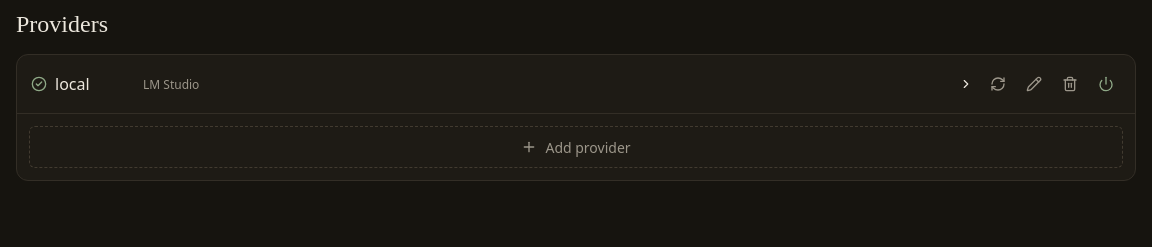
Test: provider icon actions › keeps the provider enabled when the toggle request fails
This screenshot has width=1152, height=247.
Click the switch named "Disable" at (1106, 84), box [1091,69,1121,99]
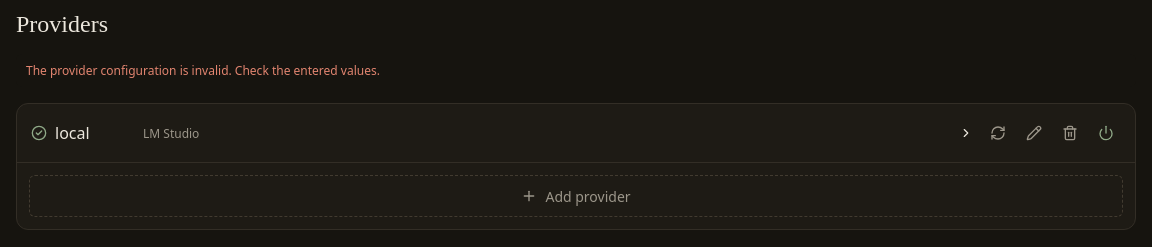
Check: the message "The provider configuration is invalid. Check the entered values." is shown, box [16,54,1136,87]
